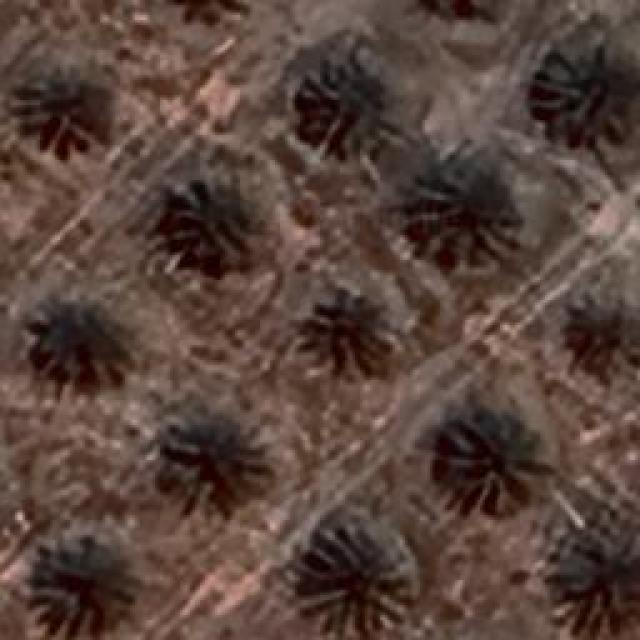PalmTree: (70, 15, 207, 110), (300, 48, 425, 150), (300, 534, 410, 638), (445, 408, 545, 510), (28, 542, 130, 638), (530, 42, 635, 132), (558, 522, 638, 636), (412, 170, 512, 260), (30, 295, 128, 383), (162, 415, 260, 495), (307, 280, 395, 368), (170, 175, 252, 255), (572, 282, 638, 370), (412, 0, 506, 24), (161, 0, 256, 20)
